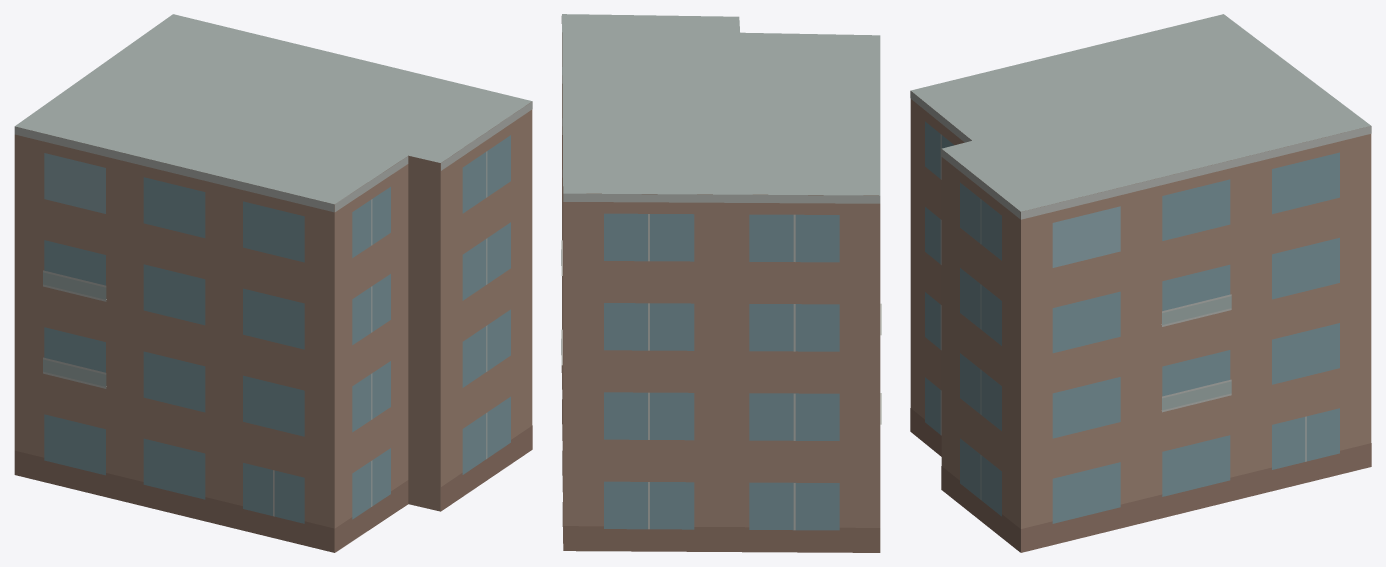
File: survey-upis-32711052.glb
The picture shows the model from 3 angles, left to right: view 1: azimuth 30°, elevation 25°; view 2: azimuth 150°, elevation 25°; view 3: azimuth 270°, elevation 25°; orthographic projection. The views are drawn at different scales.
Parts seen in each view (by area): view 1: survey-upis-32711052.tmp; view 2: survey-upis-32711052.tmp; view 3: survey-upis-32711052.tmp.
Boxes of the visible parts, <box> form: survey-upis-32711052.tmp: <box>14,14,532,552</box>; survey-upis-32711052.tmp: <box>561,14,881,552</box>; survey-upis-32711052.tmp: <box>910,14,1371,552</box>.
Bounding box in the file's own units: 13.07 × 10.5 × 12.87.
